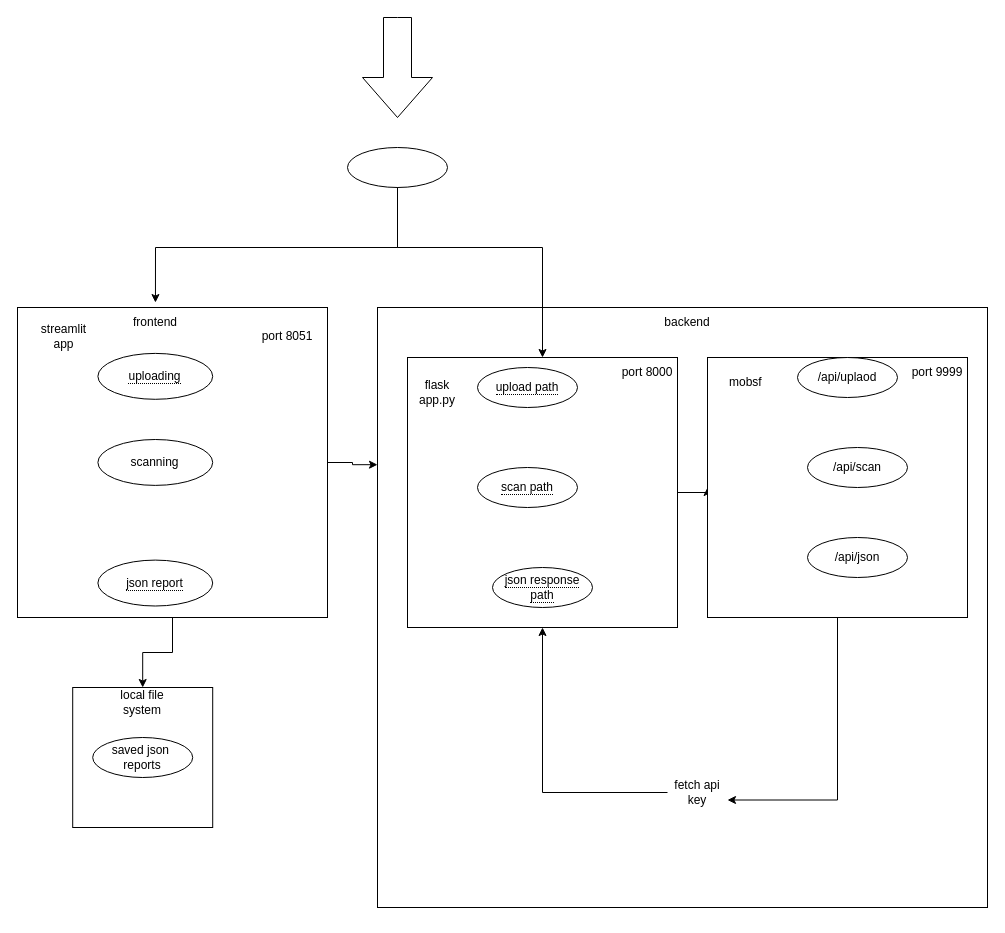
This 1005x933 diagram has some shape labels left out. The box of each missing label's shape, as (x1, y1, x2, y2) in pixels:
entry: (362, 16, 432, 118)
run all apps .py: (346, 146, 448, 188)
